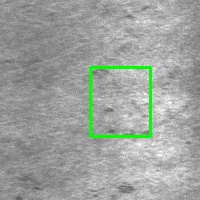rolled-in_scale: (90, 67, 150, 136)
